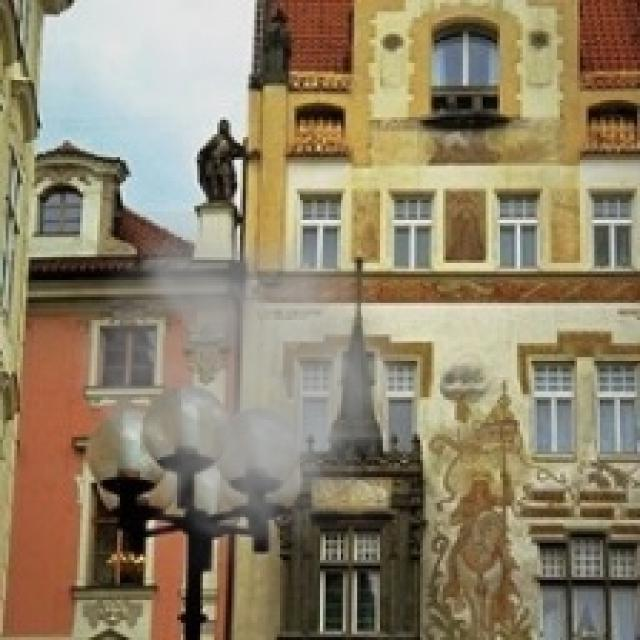Smoke: (57, 211, 434, 586)
